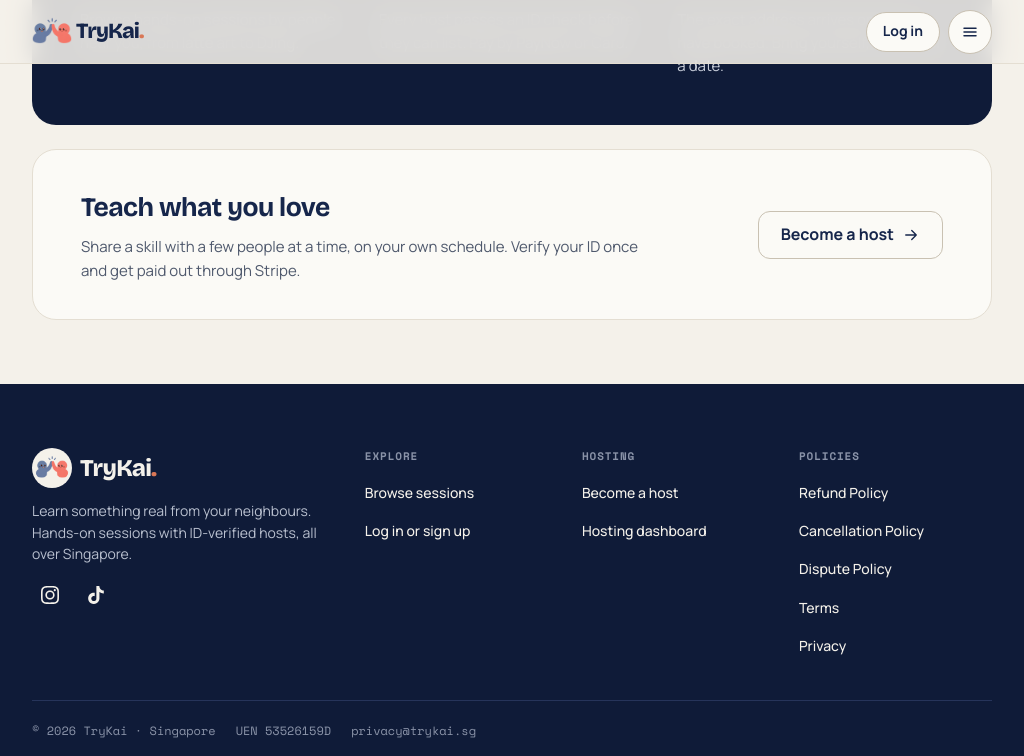
Test: App routes › uses in-app history for back after navigating inside the app
(page scrolled)
Click the link "Refund Policy".
click(844, 492)  # box [799,483,888,502]
(page scrolled)
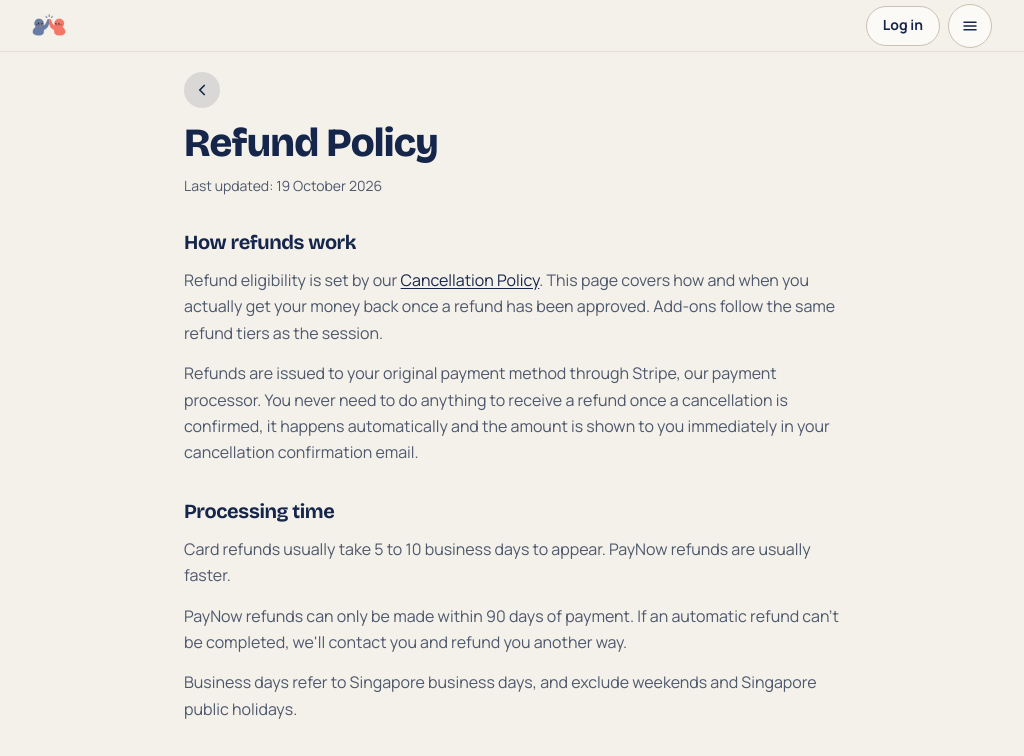
Check: the heading "Refund Policy" is shown, box [184,119,438,167]
Click the button named "Back".
click(202, 90)  # box [184,72,220,108]
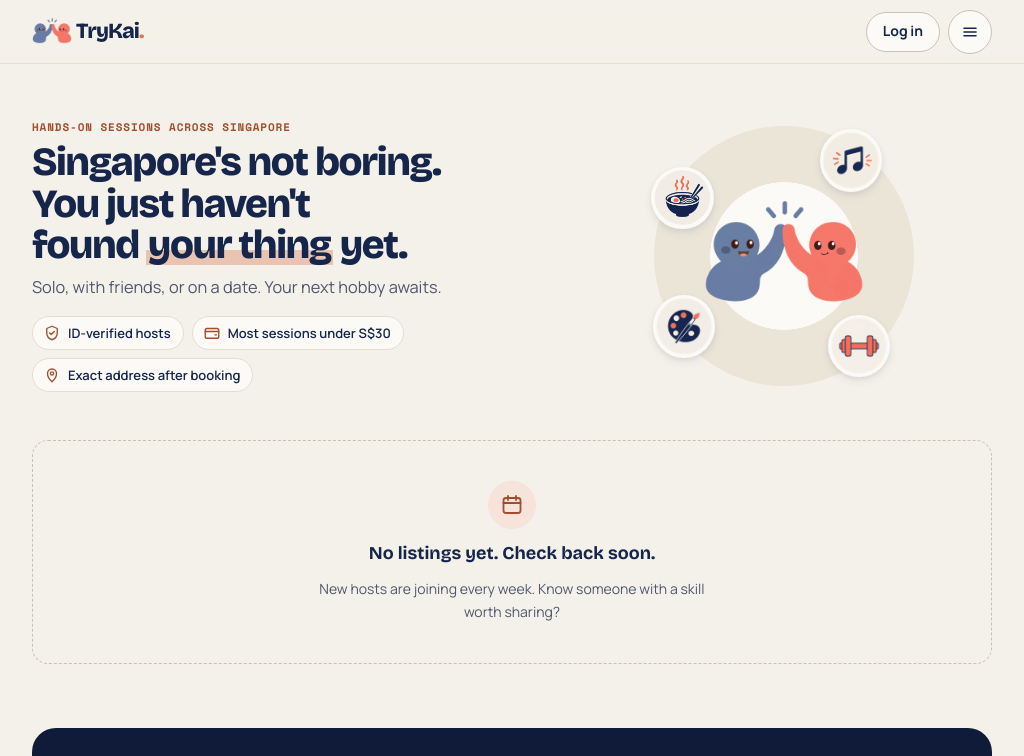
Check: the heading "Singapore's not boring. You just haven't found your thing yet." is shown, box [32,138,440,270]
